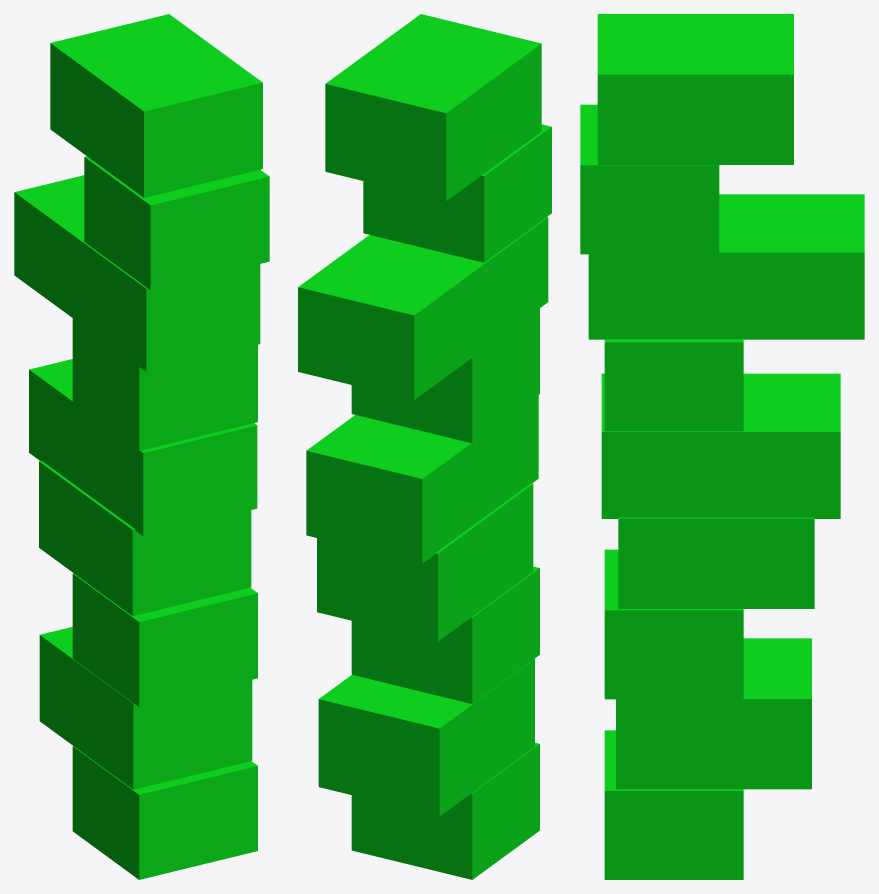
The model's file is Brick_Grp_04.fbx.
3 views of the same model, side by side, from view 1: azimuth 30°, elevation 25°; view 2: azimuth 150°, elevation 25°; view 3: azimuth 270°, elevation 25° (orthographic). The views are drawn at different scales.
Parts seen in each view (by area): view 1: Brick_Grp_04; view 2: Brick_Grp_04; view 3: Brick_Grp_04.
Part boxes in pixels (left/top/right/bottom): Brick_Grp_04: left=14, top=14, right=269, bottom=879; Brick_Grp_04: left=298, top=14, right=551, bottom=879; Brick_Grp_04: left=580, top=14, right=864, bottom=879.
Bounding box in the file's own units: 172 × 1048 × 335.
